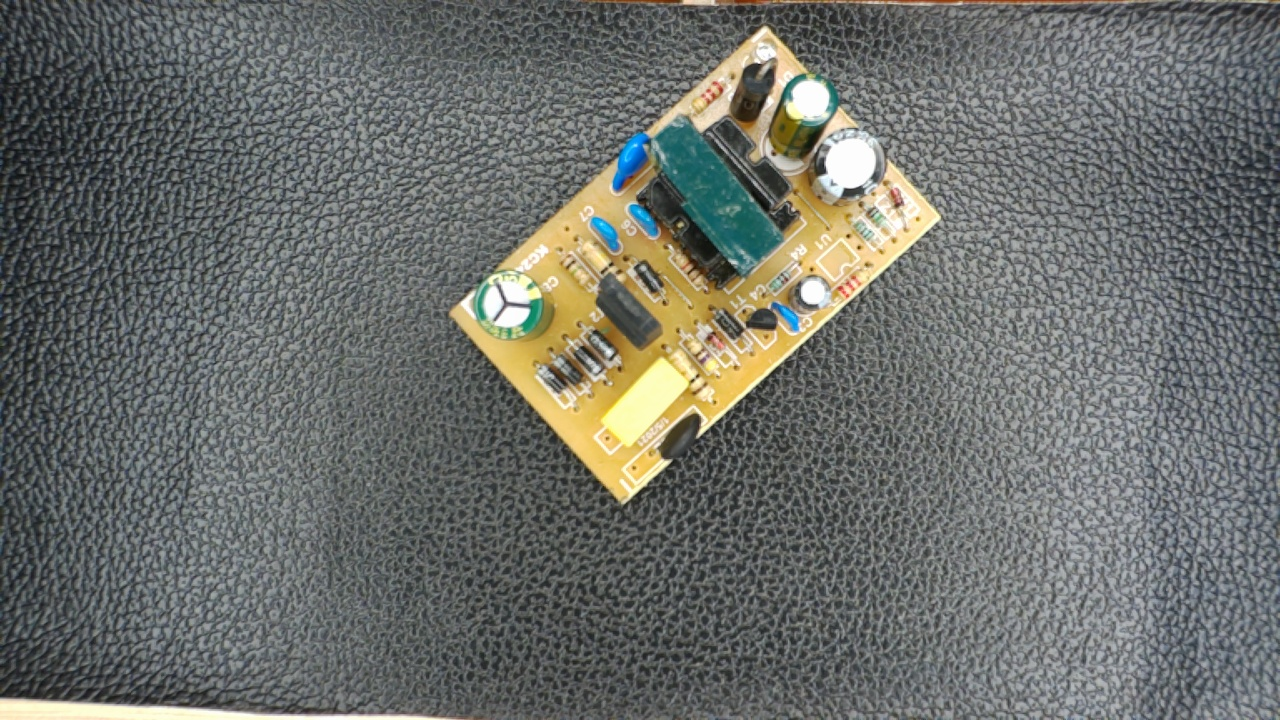fuse: (645, 407, 708, 462)
hv_capacitor: (465, 266, 557, 342)
mov: (606, 128, 659, 192)
